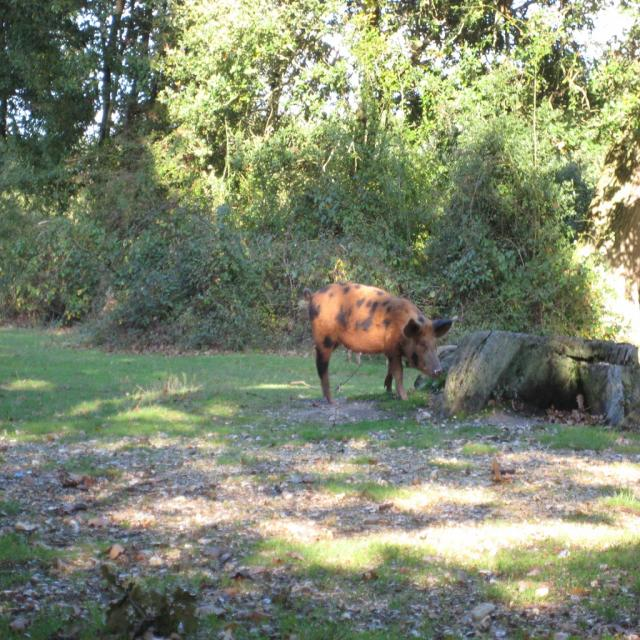Pig: (304, 278, 454, 406)
